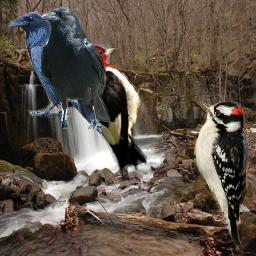Crow: (7, 11, 130, 145), (41, 7, 110, 129)
Woodpecker: (78, 44, 157, 175), (191, 101, 249, 247)
